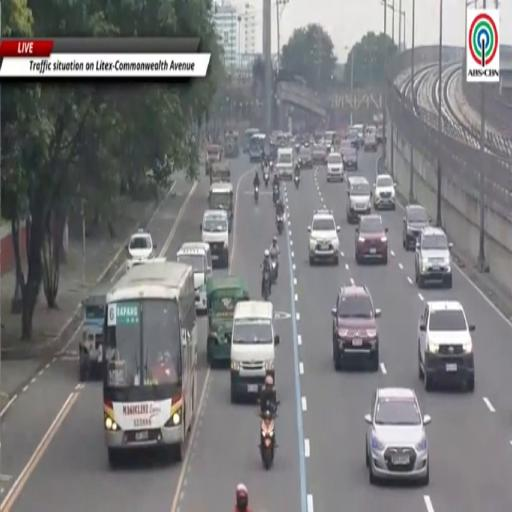bus: (103, 262, 197, 467), (244, 127, 260, 153)
car: (365, 388, 431, 485), (418, 300, 474, 392), (332, 284, 380, 371), (415, 227, 452, 289), (308, 210, 339, 265), (200, 210, 229, 267), (355, 215, 388, 264), (403, 204, 431, 250), (346, 176, 372, 223), (127, 229, 155, 268), (373, 174, 395, 210), (327, 153, 344, 182), (341, 143, 357, 170), (351, 124, 365, 148), (298, 146, 312, 169), (312, 144, 327, 165), (346, 130, 359, 150), (364, 133, 377, 152), (376, 125, 383, 143)
jeepney: (207, 277, 249, 365), (79, 283, 112, 381), (209, 182, 233, 230), (206, 144, 223, 175), (210, 161, 231, 184), (244, 128, 260, 153), (225, 132, 239, 157)
motorcycle: (260, 411, 275, 470), (262, 270, 270, 300), (271, 258, 278, 283), (276, 216, 283, 234), (273, 185, 279, 205), (264, 169, 269, 187), (294, 174, 299, 189), (254, 186, 258, 204)
